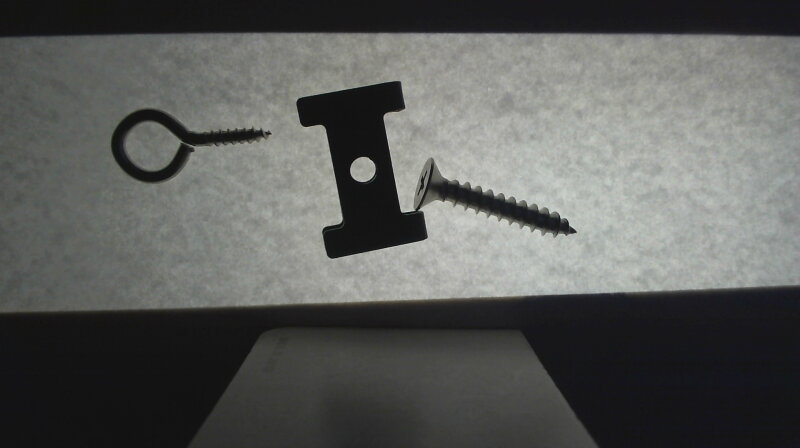O001: (108, 105, 276, 183)
O002: (295, 79, 428, 259)
S001: (411, 156, 575, 236)
